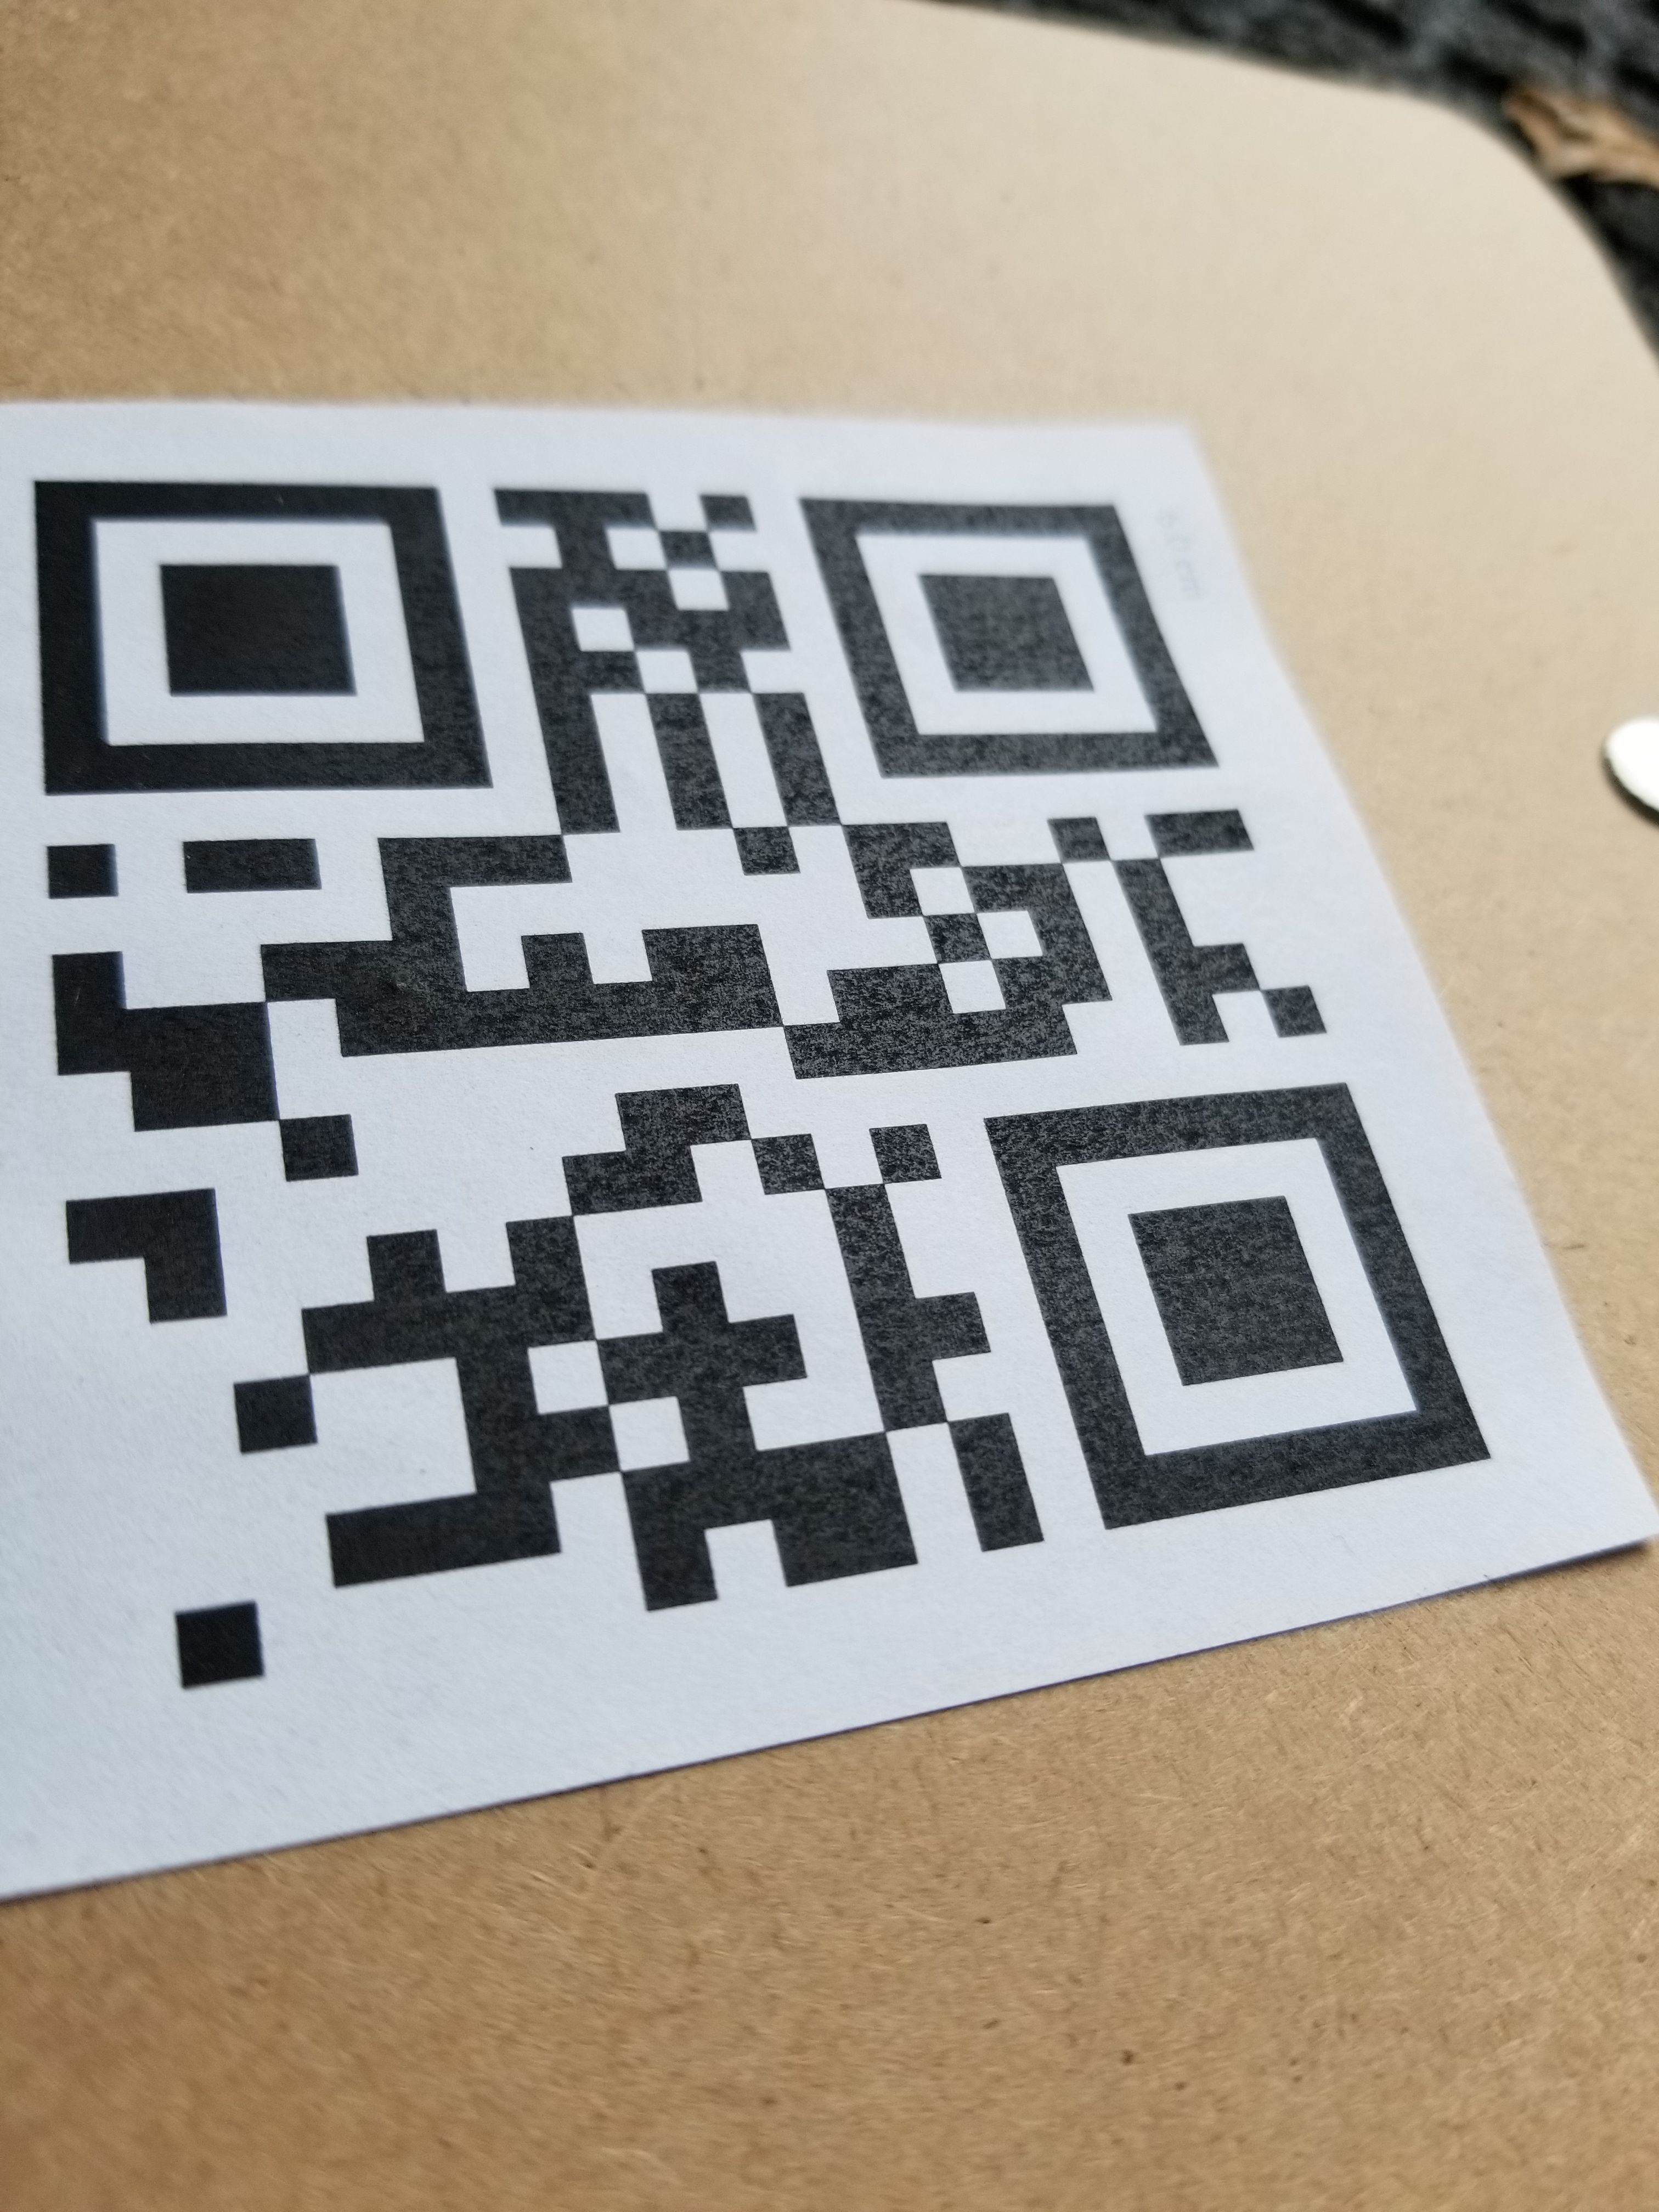QR_CODE: (16, 406, 1535, 1735)
